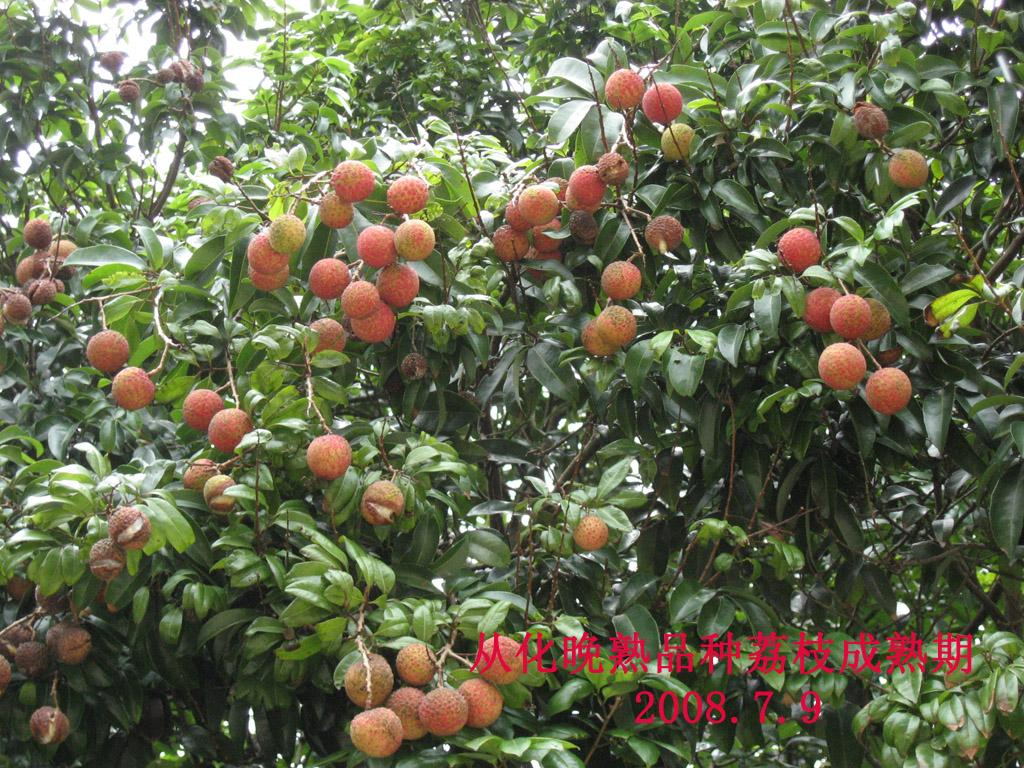果实发育期: (264, 211, 308, 257), (656, 119, 698, 162)
果实成熟期: (82, 326, 159, 414), (341, 646, 398, 710), (577, 302, 640, 359), (346, 703, 407, 761), (415, 681, 472, 740), (472, 631, 530, 688), (814, 338, 870, 392), (454, 674, 506, 731), (303, 428, 355, 483), (864, 365, 916, 418), (562, 162, 611, 218), (106, 363, 159, 414), (371, 258, 422, 311), (773, 225, 824, 276), (82, 326, 133, 377), (347, 296, 398, 346), (326, 157, 378, 206), (826, 289, 875, 341), (393, 639, 443, 689), (352, 220, 401, 271), (243, 229, 294, 278), (303, 254, 356, 301), (205, 405, 255, 454), (390, 215, 440, 263), (638, 78, 685, 127), (884, 145, 932, 192), (336, 277, 384, 324), (601, 64, 648, 112), (180, 385, 227, 432), (515, 182, 562, 229), (593, 303, 640, 350), (384, 171, 431, 217), (597, 258, 645, 303), (108, 505, 154, 550), (489, 221, 534, 266), (361, 481, 407, 525), (244, 254, 293, 294), (304, 315, 350, 356), (315, 187, 356, 232), (87, 539, 130, 581), (847, 101, 892, 140), (49, 628, 96, 665), (569, 514, 611, 555), (29, 708, 71, 747), (800, 291, 838, 329), (13, 640, 51, 677), (13, 251, 48, 284), (20, 218, 54, 249), (27, 280, 61, 305), (208, 155, 235, 186), (5, 297, 33, 325), (113, 80, 141, 104), (99, 48, 123, 71), (186, 71, 207, 93), (154, 68, 171, 84)
